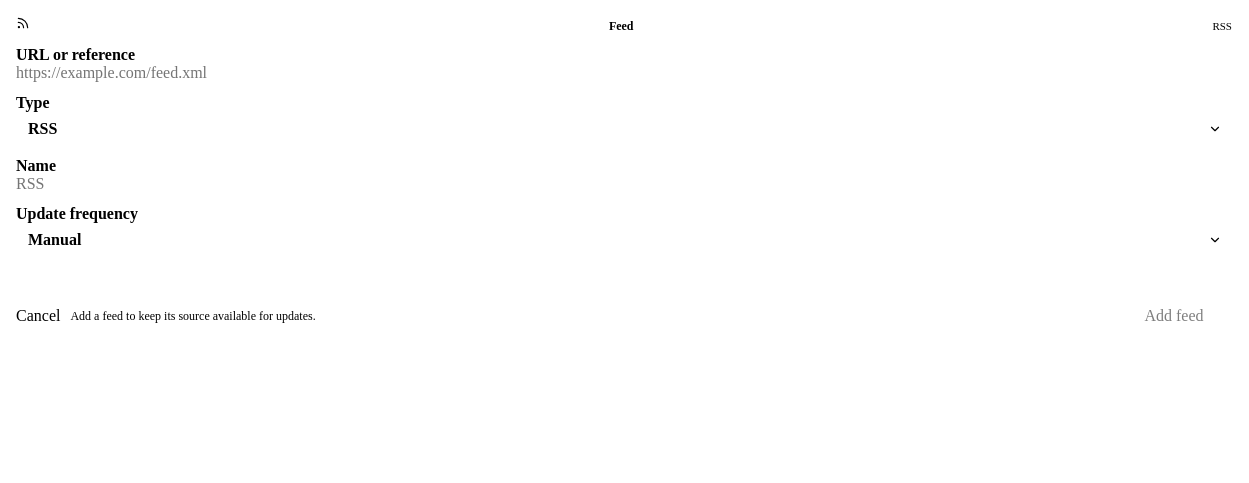
it: feed setup independent of the import workspace › keeps an explicit type selection and validates API inputs before submission
The image size is (1249, 483).
Select "API list" in the dropdown with test id "source-kind" at (624, 128), box x1=16 y1=112 x2=1232 y2=145
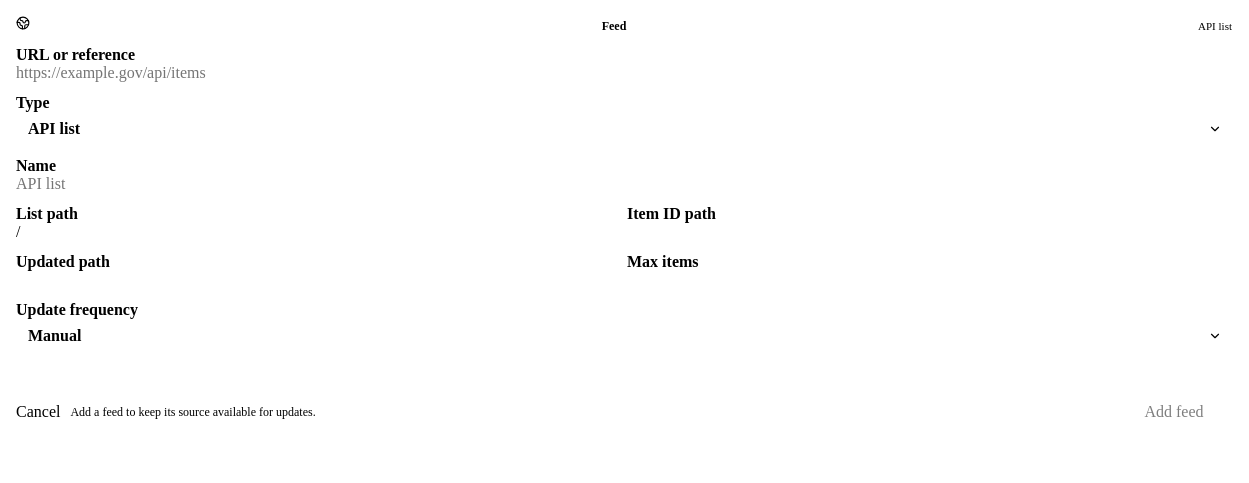
Type "http://example.test/feed.xml" into the field with test id "source-url" at (624, 73), box x1=16 y1=64 x2=1232 y2=82
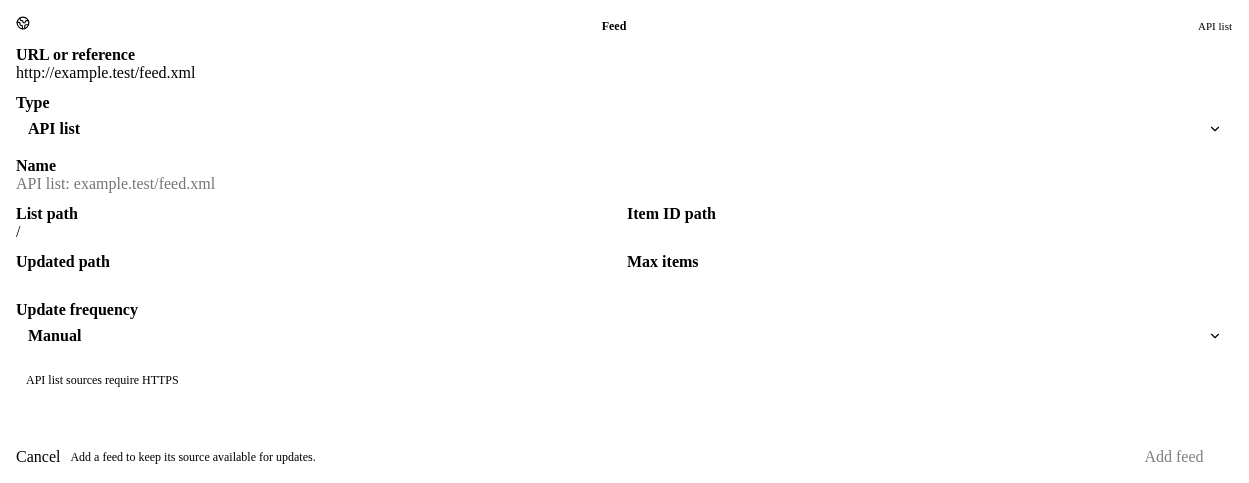
Expected: the button with test id "source-create" is disabled, x1=1116 y1=448 x2=1232 y2=466
Now the message shows "HTTPS", box x1=26 y1=373 x2=179 y2=387
Replace the text in the field with test id "source-url" with "https://example.test/feed.xml" at (624, 73), box x1=16 y1=64 x2=1232 y2=82
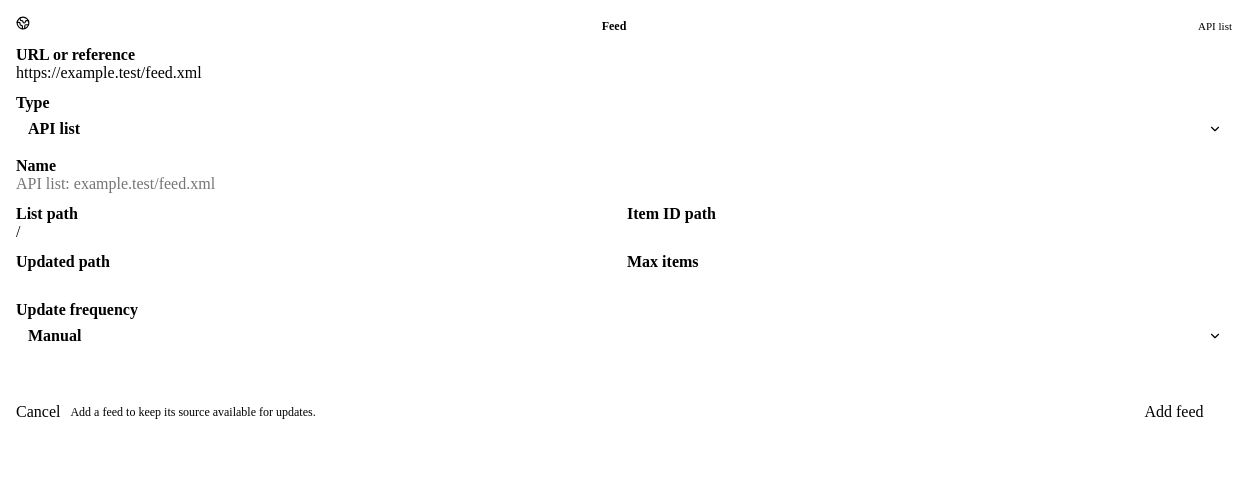
Replace the text in the field with test id "source-api-list-path" with "items" at (318, 232), box x1=16 y1=223 x2=621 y2=241
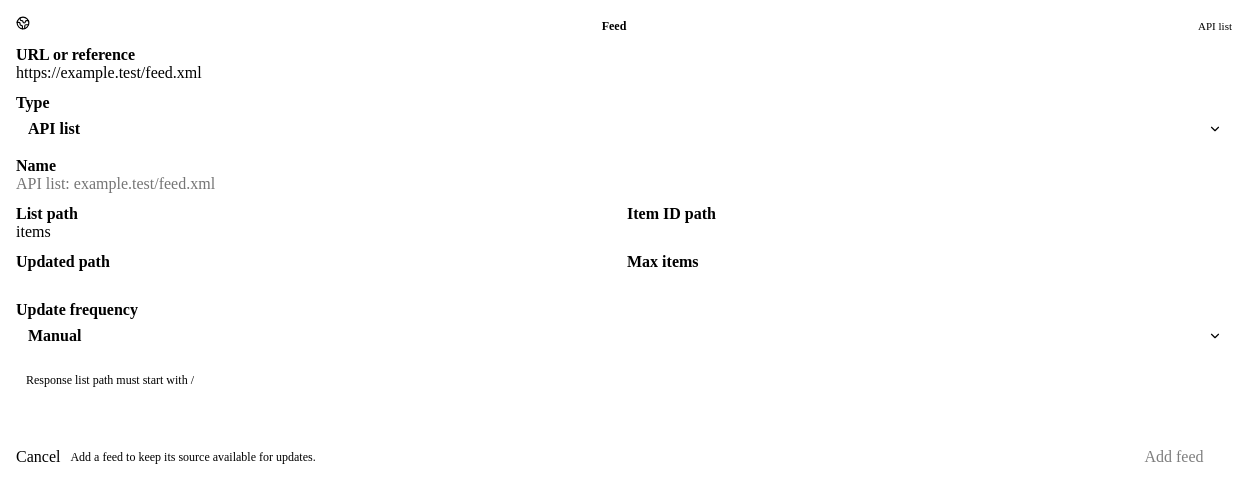
Now the message shows "must start with /", box x1=26 y1=373 x2=194 y2=387
